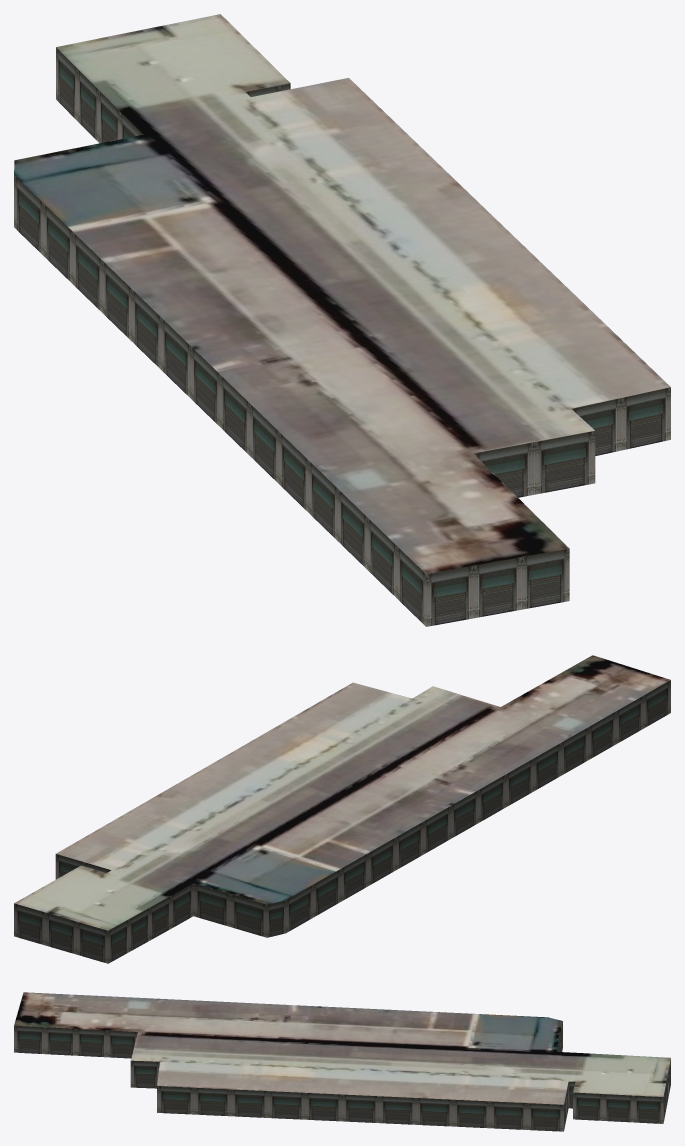
3 views of the same model, one above another, from view 1: azimuth 30°, elevation 25°; view 2: azimuth 150°, elevation 25°; view 3: azimuth 270°, elevation 25° (orthographic). The views are drawn at different scales.
Visible parts, largest first — view 1: SketchUp (×6); view 2: SketchUp (×8); view 3: SketchUp (×6).
Part boxes in pixels (x1,y1,x2,y2): SketchUp (×6): (14,14,670,626); SketchUp (×8): (14,655,670,963); SketchUp (×6): (14,992,670,1131).
Bounding box in the file's own units: 40.27 × 99.37 × 4.49.
2 materials, 2 textured.
